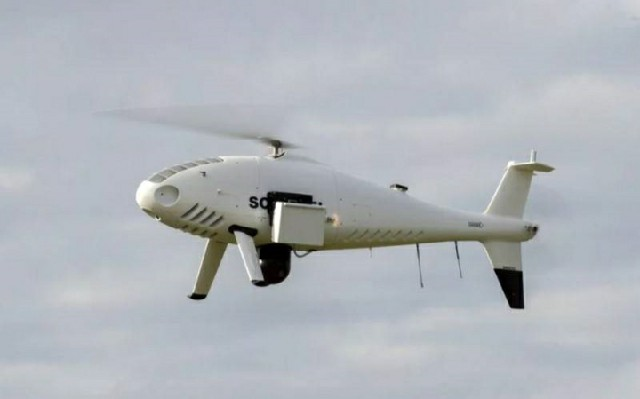maybay_khongnguoilai: (95, 96, 543, 314)
